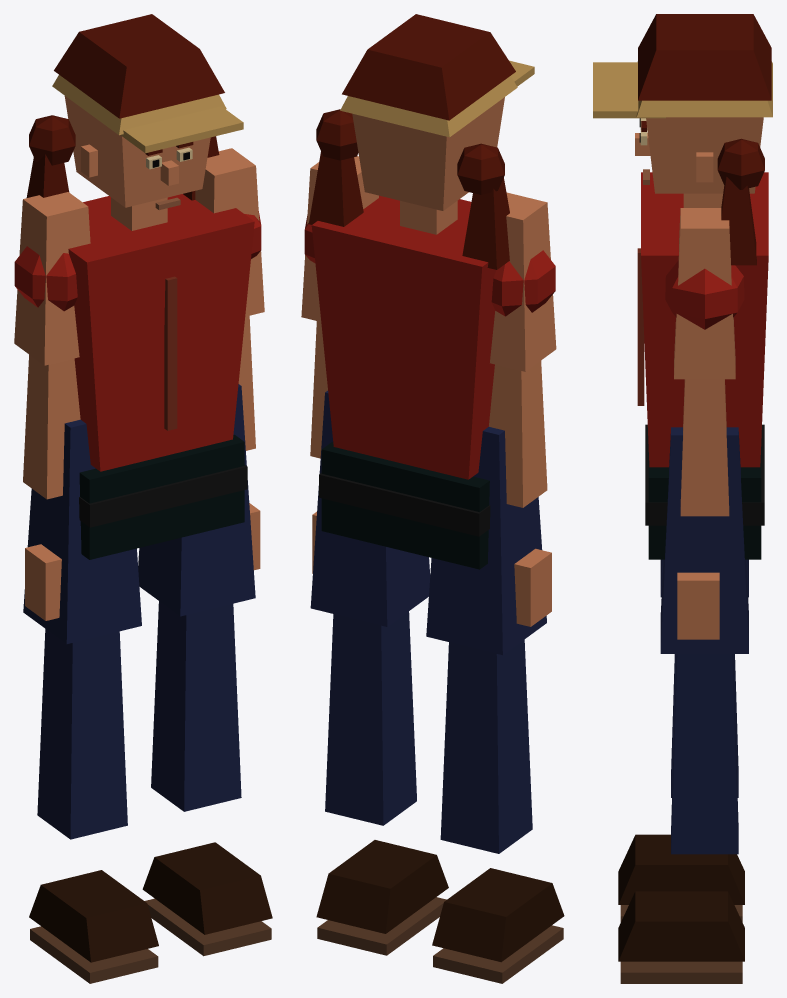
The model's file is npc_female_cowgirl.glb.
3 views of the same model, side by side, from view 1: azimuth 30°, elevation 25°; view 2: azimuth 150°, elevation 25°; view 3: azimuth 270°, elevation 25° (orthographic).
Parts seen in each view (by area): view 1: torso, head, lowerLegL, lowerLegR, hips, upperLegR, footR, footL, upperArmR, upperLegL, foreArmR, upperArmL (+1 smaller); view 2: torso, head, lowerLegR, lowerLegL, hips, upperLegR, footR, footL, upperLegL, upperArmR, foreArmR, upperArmL (+1 smaller); view 3: head, torso, lowerLegL, upperLegL, footL, upperArmL, foreArmL, footR, hips, lowerLegR.
Boxes of the visible parts, box(x1,y1,x2,y2) form: torso: box(68, 194, 254, 471); head: box(26, 14, 243, 210); lowerLegL: box(151, 601, 241, 811); lowerLegR: box(37, 629, 127, 839); hips: box(79, 434, 247, 559); upperLegR: box(23, 419, 141, 643); footR: box(29, 870, 158, 983); footL: box(142, 842, 272, 956); upperArmR: box(14, 192, 90, 365); upperLegL: box(138, 384, 255, 616); foreArmR: box(23, 354, 80, 620); upperArmL: box(195, 148, 264, 316); torso: box(311, 195, 496, 479); head: box(308, 14, 534, 269); lowerLegR: box(440, 639, 532, 853); lowerLegL: box(325, 611, 416, 825); hips: box(319, 442, 490, 569); upperLegR: box(426, 427, 546, 655); footR: box(432, 868, 564, 983); footL: box(316, 840, 448, 955); upperLegL: box(310, 390, 430, 626); upperArmR: box(490, 192, 556, 371); foreArmR: box(489, 360, 551, 626); upperArmL: box(301, 156, 378, 321); head: box(593, 14, 772, 265); torso: box(637, 172, 768, 467); lowerLegL: box(671, 654, 738, 854); upperLegL: box(660, 427, 748, 653); footL: box(618, 891, 744, 983); upperArmL: box(665, 208, 744, 379); foreArmL: box(677, 379, 729, 639); footR: box(618, 834, 744, 922); hips: box(645, 424, 764, 559); lowerLegR: box(671, 654, 738, 797).
Size of the model in its own units: 0.491 by 1.78 by 0.3197.
